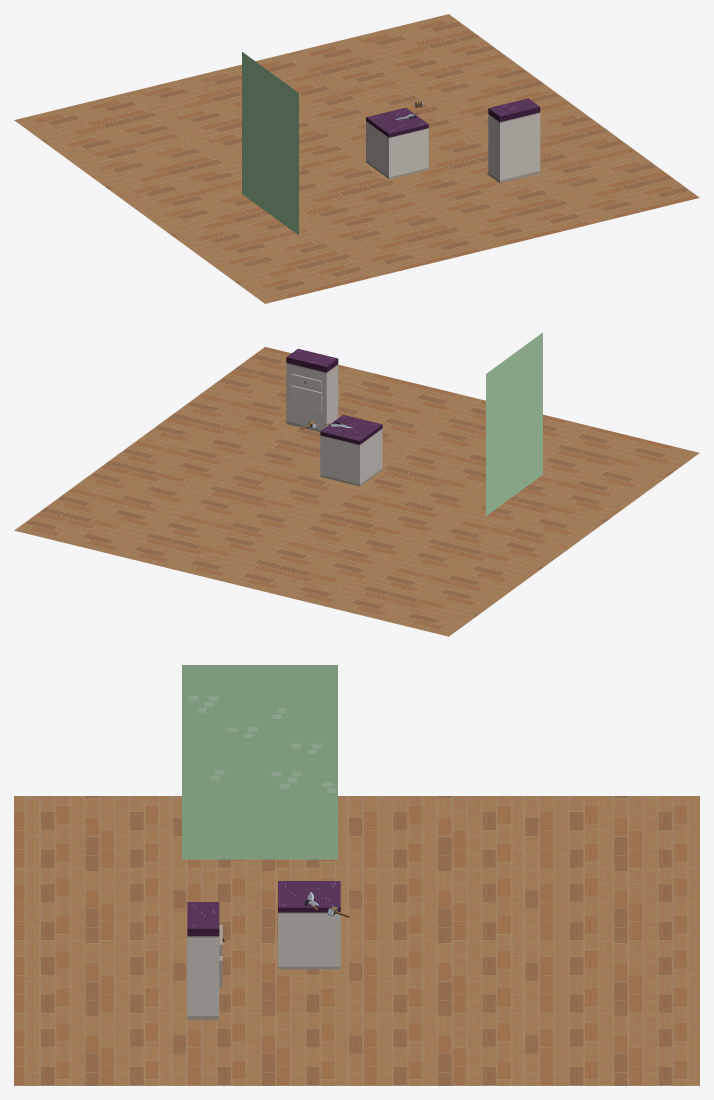
3 renders of one model, top to bottom at view 1: azimuth 30°, elevation 25°; view 2: azimuth 150°, elevation 25°; view 3: azimuth 270°, elevation 25°, orthographic. The views are drawn at different scales.
Parts seen in each view (by area): view 1: pPlane1, mesh_kitchen_wall_02, mesh_kitchen_counterPurple_08, tezgah1; view 2: pPlane1, mesh_kitchen_wall_02, tezgah1, mesh_kitchen_counterPurple_08, cekmece1; view 3: pPlane1, mesh_kitchen_wall_02, tezgah1, mesh_kitchen_counterPurple_08.
Part boxes in pixels (bbox=[...]): pPlane1: bbox=[14, 14, 699, 303]; mesh_kitchen_wall_02: bbox=[242, 52, 298, 235]; mesh_kitchen_counterPurple_08: bbox=[488, 98, 540, 183]; tezgah1: bbox=[366, 107, 428, 179]; pPlane1: bbox=[14, 347, 699, 636]; mesh_kitchen_wall_02: bbox=[486, 332, 542, 515]; tezgah1: bbox=[320, 415, 382, 486]; mesh_kitchen_counterPurple_08: bbox=[286, 348, 338, 431]; cekmece1: bbox=[291, 373, 322, 412]; pPlane1: bbox=[14, 796, 699, 1085]; mesh_kitchen_wall_02: bbox=[182, 665, 337, 859]; tezgah1: bbox=[278, 881, 340, 969]; mesh_kitchen_counterPurple_08: bbox=[187, 902, 219, 1019].
Size of the model in its own units: 17.62 by 5.51 by 17.62.
8 materials, 8 textured.
